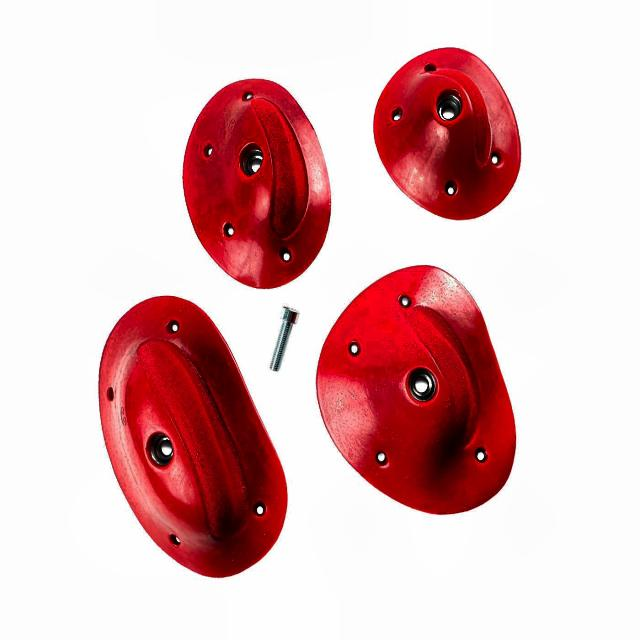Hold: (96, 297, 290, 580), (308, 258, 518, 518), (182, 76, 328, 290), (370, 42, 520, 220)
